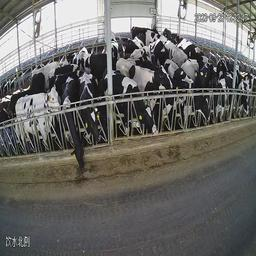cow: (103, 69, 158, 148), (166, 55, 210, 131), (13, 84, 61, 153), (59, 76, 87, 178), (77, 69, 104, 152), (212, 67, 236, 125), (145, 63, 175, 108), (120, 28, 146, 58), (199, 54, 215, 92), (147, 34, 165, 61), (238, 80, 249, 121)
